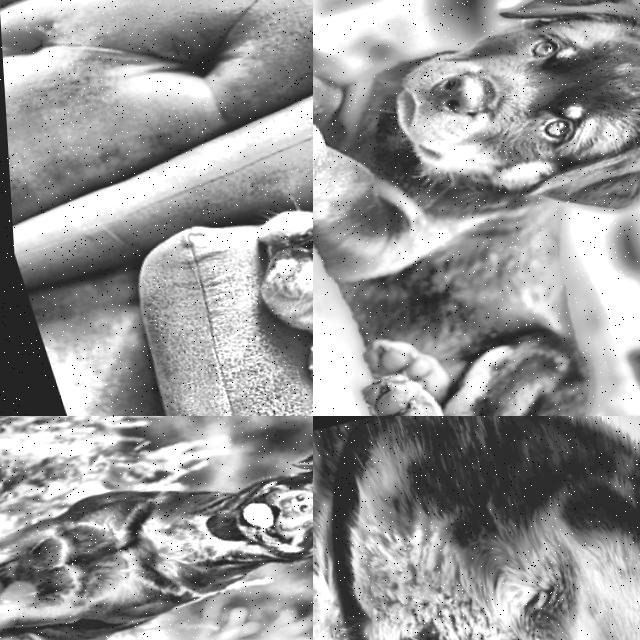bulldog: (208, 95, 313, 416)
husky: (388, 416, 640, 640)
rottweiler: (329, 0, 640, 287), (182, 416, 313, 608)
